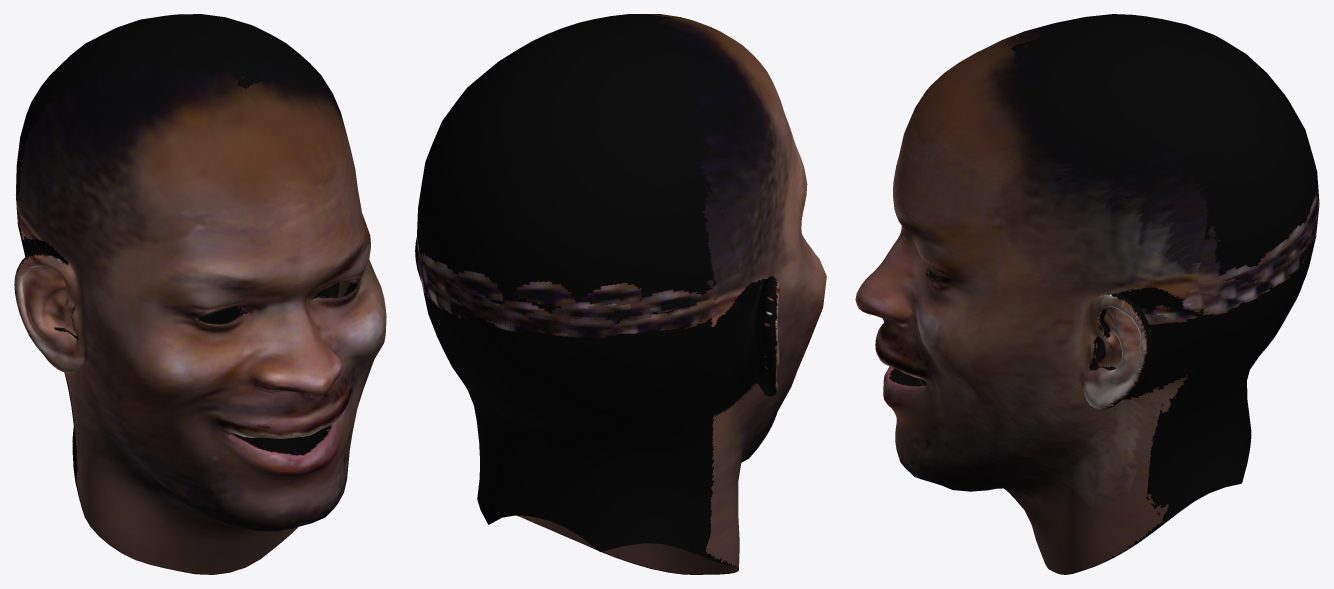
File: Teeth.obj
3 views of the same model, side by side, from view 1: azimuth 30°, elevation 25°; view 2: azimuth 150°, elevation 25°; view 3: azimuth 270°, elevation 25° (orthographic). The views are drawn at different scales.
Bounding box in the file's own units: 191 × 281 × 225.
